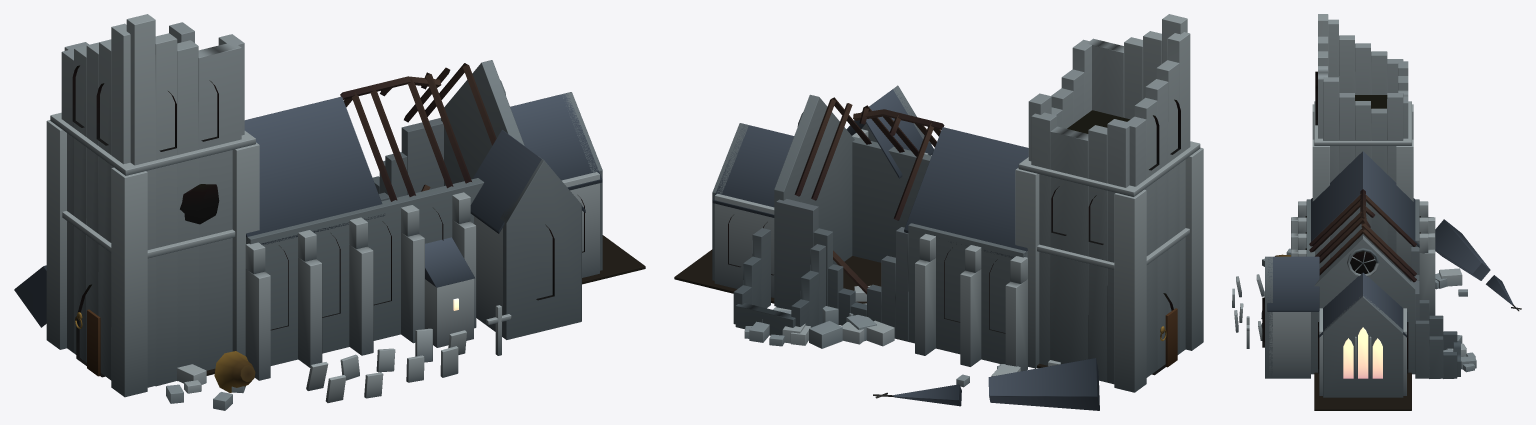
Rendered from minster.glb.
The picture shows the model from 3 angles, left to right: view 1: azimuth 30°, elevation 25°; view 2: azimuth 150°, elevation 25°; view 3: azimuth 270°, elevation 25°; orthographic projection. The views are drawn at different scales.
Visible parts, largest first — view 1: minster, minster_trim; view 2: minster, minster_trim; view 3: minster, minster_trim, minster_glow.
Boxes of the visible parts, box(x1,y1,x2,y2) form: minster: box(14, 14, 645, 410); minster_trim: box(72, 63, 584, 377); minster: box(674, 14, 1203, 410); minster_trim: box(728, 97, 1180, 375); minster: box(1232, 14, 1521, 410); minster_trim: box(1262, 71, 1420, 373); minster_glow: box(1343, 327, 1382, 378).
Size of the model in its own units: 11.22 by 7.66 by 8.32.
